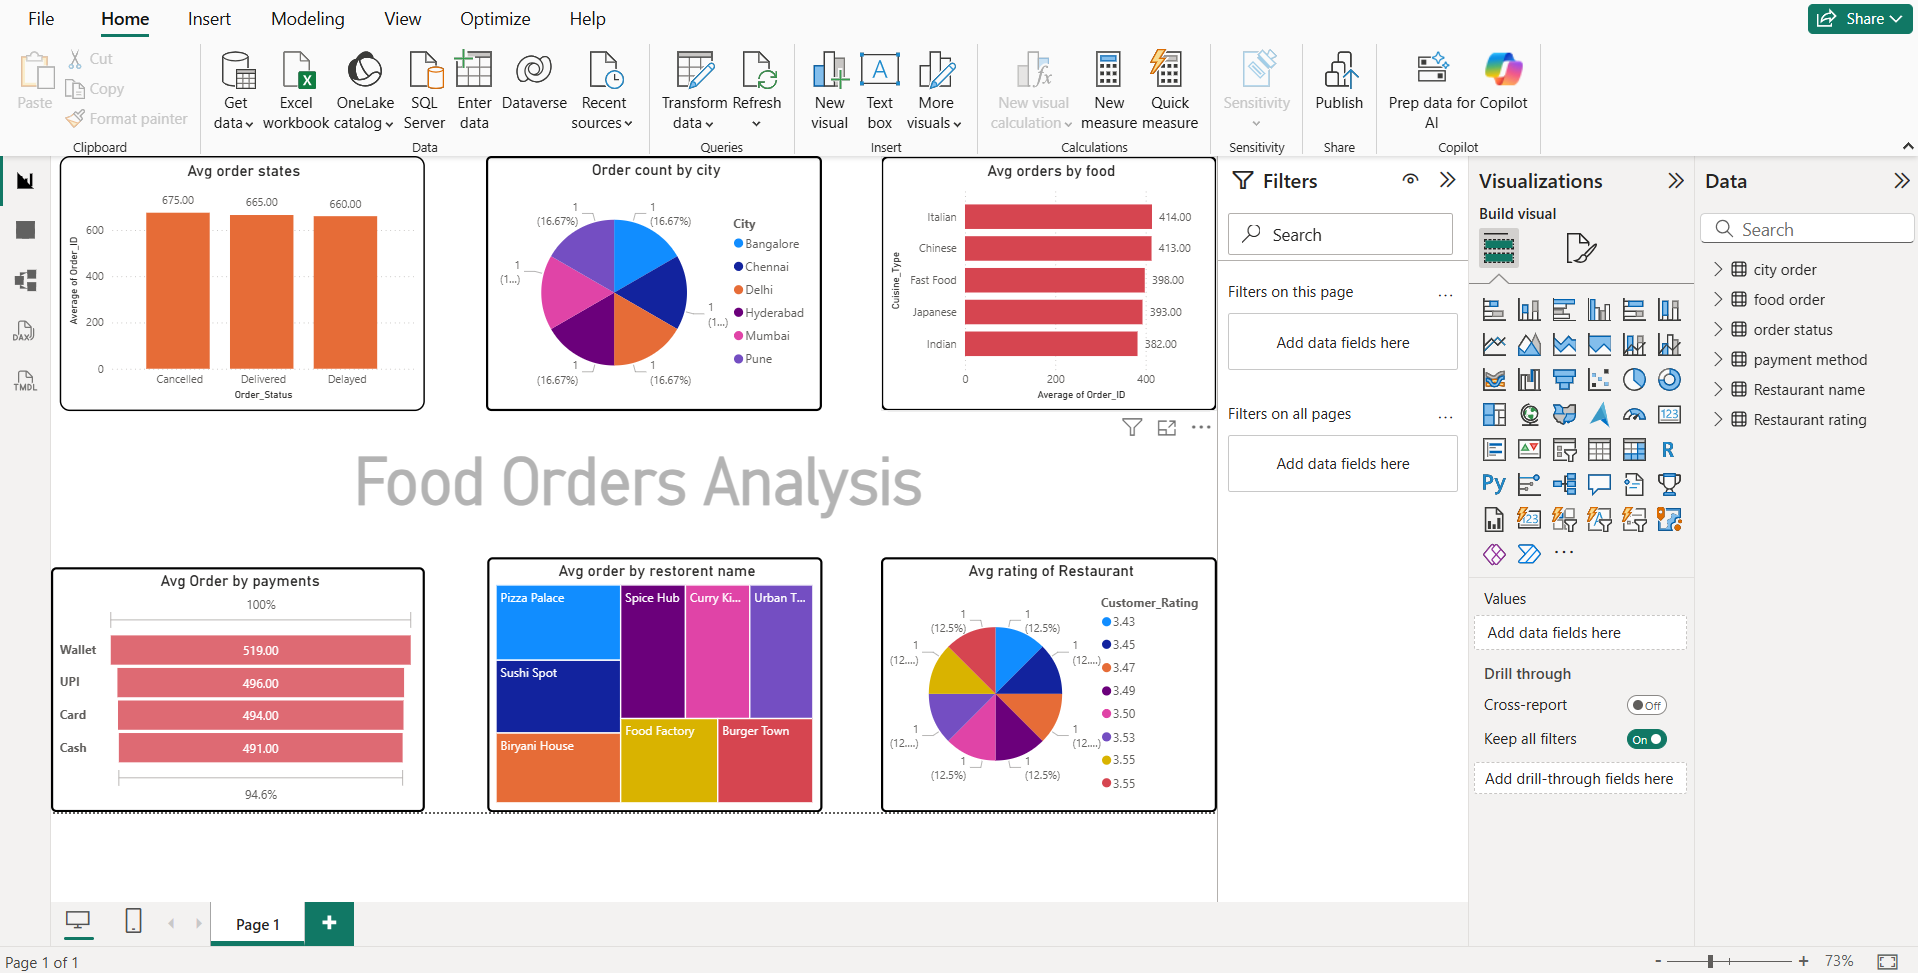

What the dashboard file says about the page in this screenshot:
{"tool":"powerbi","page":{"name":"Page 1","canvas":[1280,720],"ordinal":0},"visuals":[{"type":"columnChart","title":"Avg order  states","fields":{"Category":["order status.Order_Status"],"Y":["Avg(order status.Order_ID)"]},"box":[9.6,0,400.7,279.9],"z":0},{"type":"pieChart","title":"Order count by city","fields":{"Category":["city order.City"],"Y":["CountNonNull(city order.Order_ID)"]},"box":[477.5,0,369.1,279.9],"z":1},{"type":"barChart","title":"Avg orders by food","fields":{"Category":["food order.Cuisine_Type"],"Y":["Avg(food order.Order_ID)"]},"box":[911.2,0,369.1,279.9],"z":2},{"type":"funnel","title":"Avg Order by payments","fields":{"Y":["Avg(payment method.Order_ID)"],"Category":["payment method.Payment_Method"]},"box":[0,451.5,410.3,269],"z":3},{"type":"treemap","title":"Avg order by restorent name","fields":{"Group":["Restaurant name.Restaurant_Name"],"Values":["Avg(Restaurant name.Order_ID)"]},"box":[478.9,440.5,367.8,279.9],"z":4},{"type":"pieChart","title":"Avg rating of Restaurant","fields":{"Category":["Restaurant rating.Customer_Rating"],"Y":["CountNonNull(Restaurant rating.Restaurant_Name)"]},"box":[911.2,440.5,369.1,279.9],"z":5},{"type":"textbox","box":[9.6,310.1,1270.7,115.3],"z":6}]}

Visuals, with their boxes on the page's 1280x720 design canvas (x1, y1, x2, y2). These are canvas units, not pixel positions in the 1918x973 screenshot, which may show the page scaled, cropped or inside an application window:
"Avg order  states" columnChart: 10 0 410 280
"Order count by city" pieChart: 478 0 847 280
"Avg orders by food" barChart: 911 0 1280 280
"Avg Order by payments" funnel: 0 452 410 720
"Avg order by restorent name" treemap: 479 440 847 720
"Avg rating of Restaurant" pieChart: 911 440 1280 720
textbox: 10 310 1280 425
